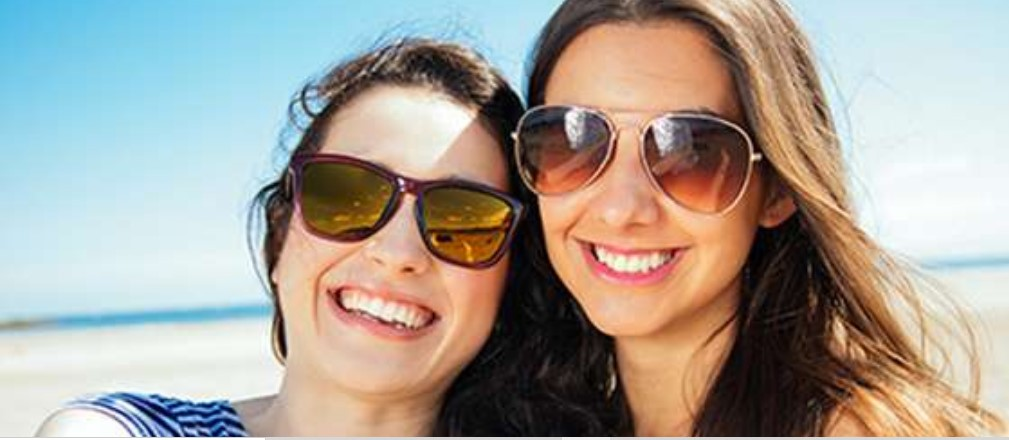face_no_mask: (530, 18, 770, 338), (275, 72, 517, 389)
